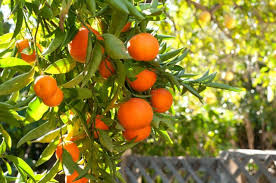orange: (66, 25, 107, 63), (113, 96, 154, 126), (126, 29, 161, 62), (124, 61, 159, 92), (147, 85, 174, 112), (30, 74, 59, 98), (57, 138, 79, 162)
